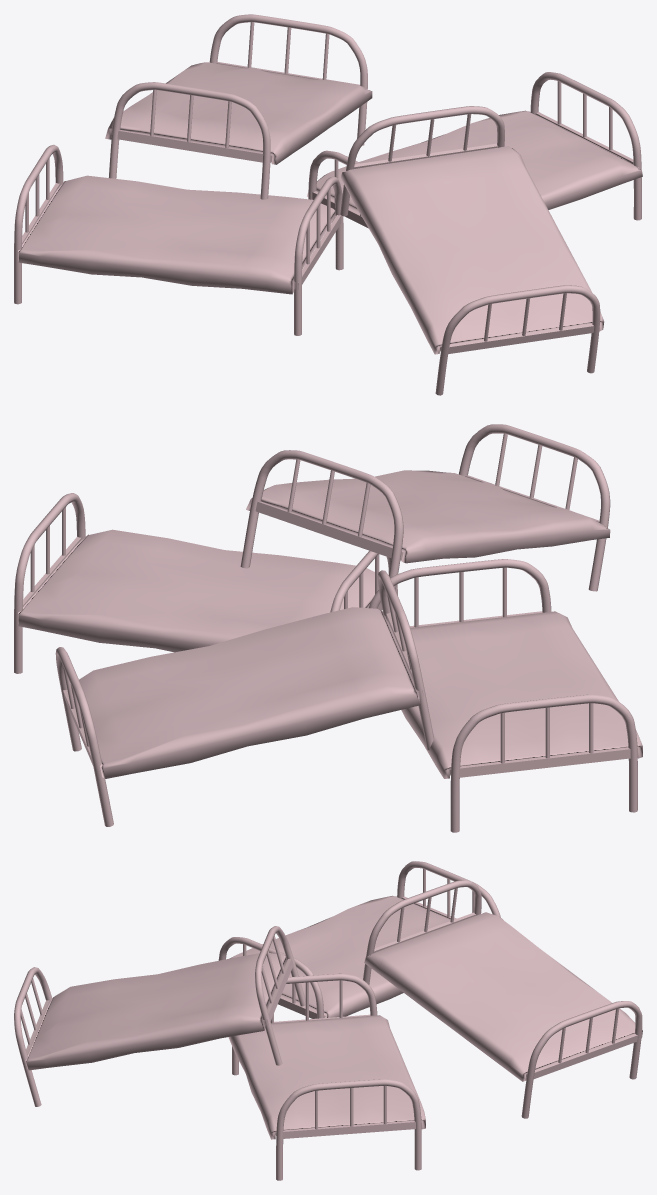
The model's file is 4BED.fbx.
The picture shows the model from 3 angles, top to bottom: view 1: azimuth 30°, elevation 25°; view 2: azimuth 150°, elevation 25°; view 3: azimuth 270°, elevation 25°; orthographic projection. The views are drawn at different scales.
Parts seen in each view (by area): view 1: CG_OBJ_Keep_Out52; view 2: CG_OBJ_Keep_Out52; view 3: CG_OBJ_Keep_Out52.
Part boxes in pixels (x1,y1,x2,y2): CG_OBJ_Keep_Out52: [14, 14, 642, 395]; CG_OBJ_Keep_Out52: [14, 424, 642, 832]; CG_OBJ_Keep_Out52: [14, 861, 642, 1180].
Size of the model in its own units: 431 by 481 by 127.
